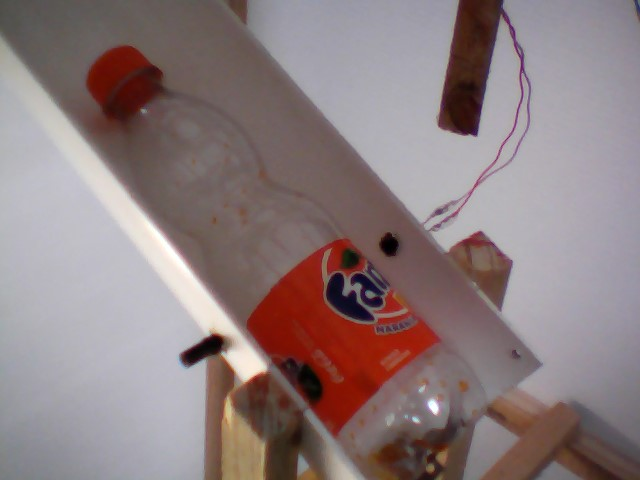plastico: (79, 37, 489, 480)
